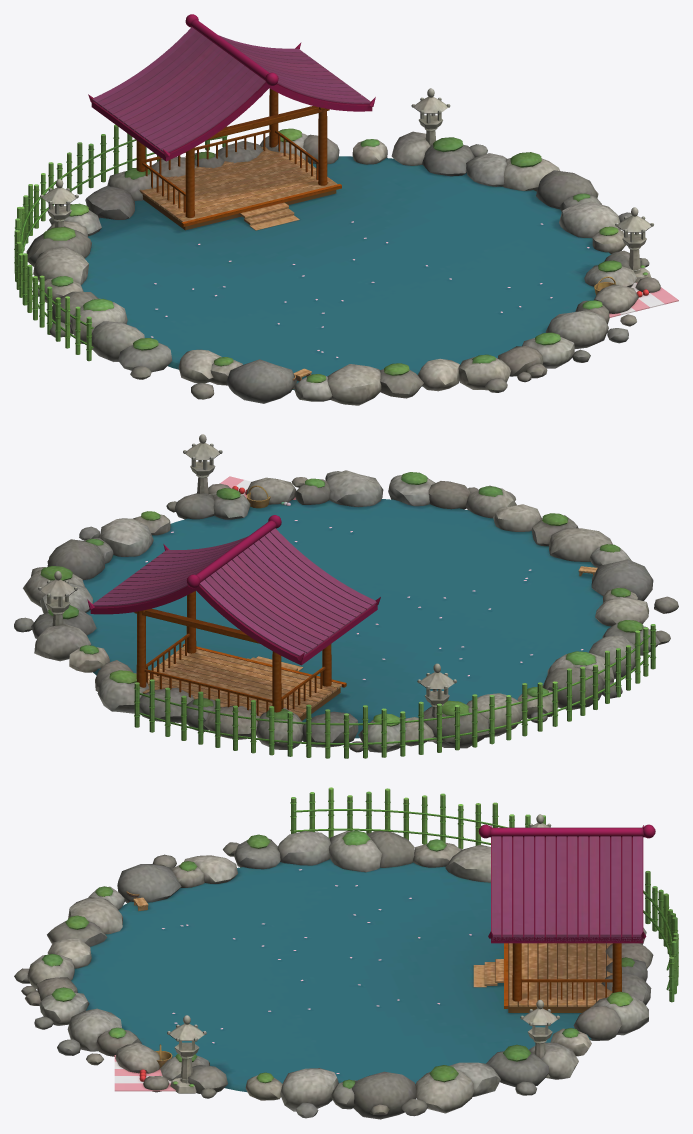
File: onsen.glb
The picture shows the model from 3 angles, top to bottom: view 1: azimuth 30°, elevation 25°; view 2: azimuth 150°, elevation 25°; view 3: azimuth 270°, elevation 25°; orthographic projection. The views are drawn at different scales.
Parts seen in each view (by area): view 1: cyl; view 2: cyl; view 3: cyl.
Boxes of the visible parts, <box> form: cyl: <box>14,14,678,405</box>; cyl: <box>14,434,678,758</box>; cyl: <box>14,787,678,1119</box>.
Size of the model in its own units: 30.43 by 8.58 by 30.57.
Materials: 1 (1 with a texture image).
